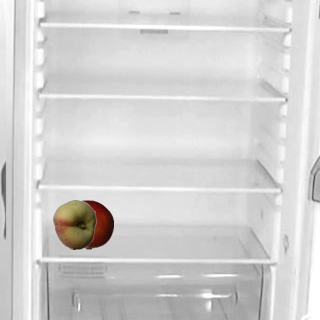Apple Braeburn: (63, 199, 113, 249)
Peach Flat: (49, 199, 99, 249)
